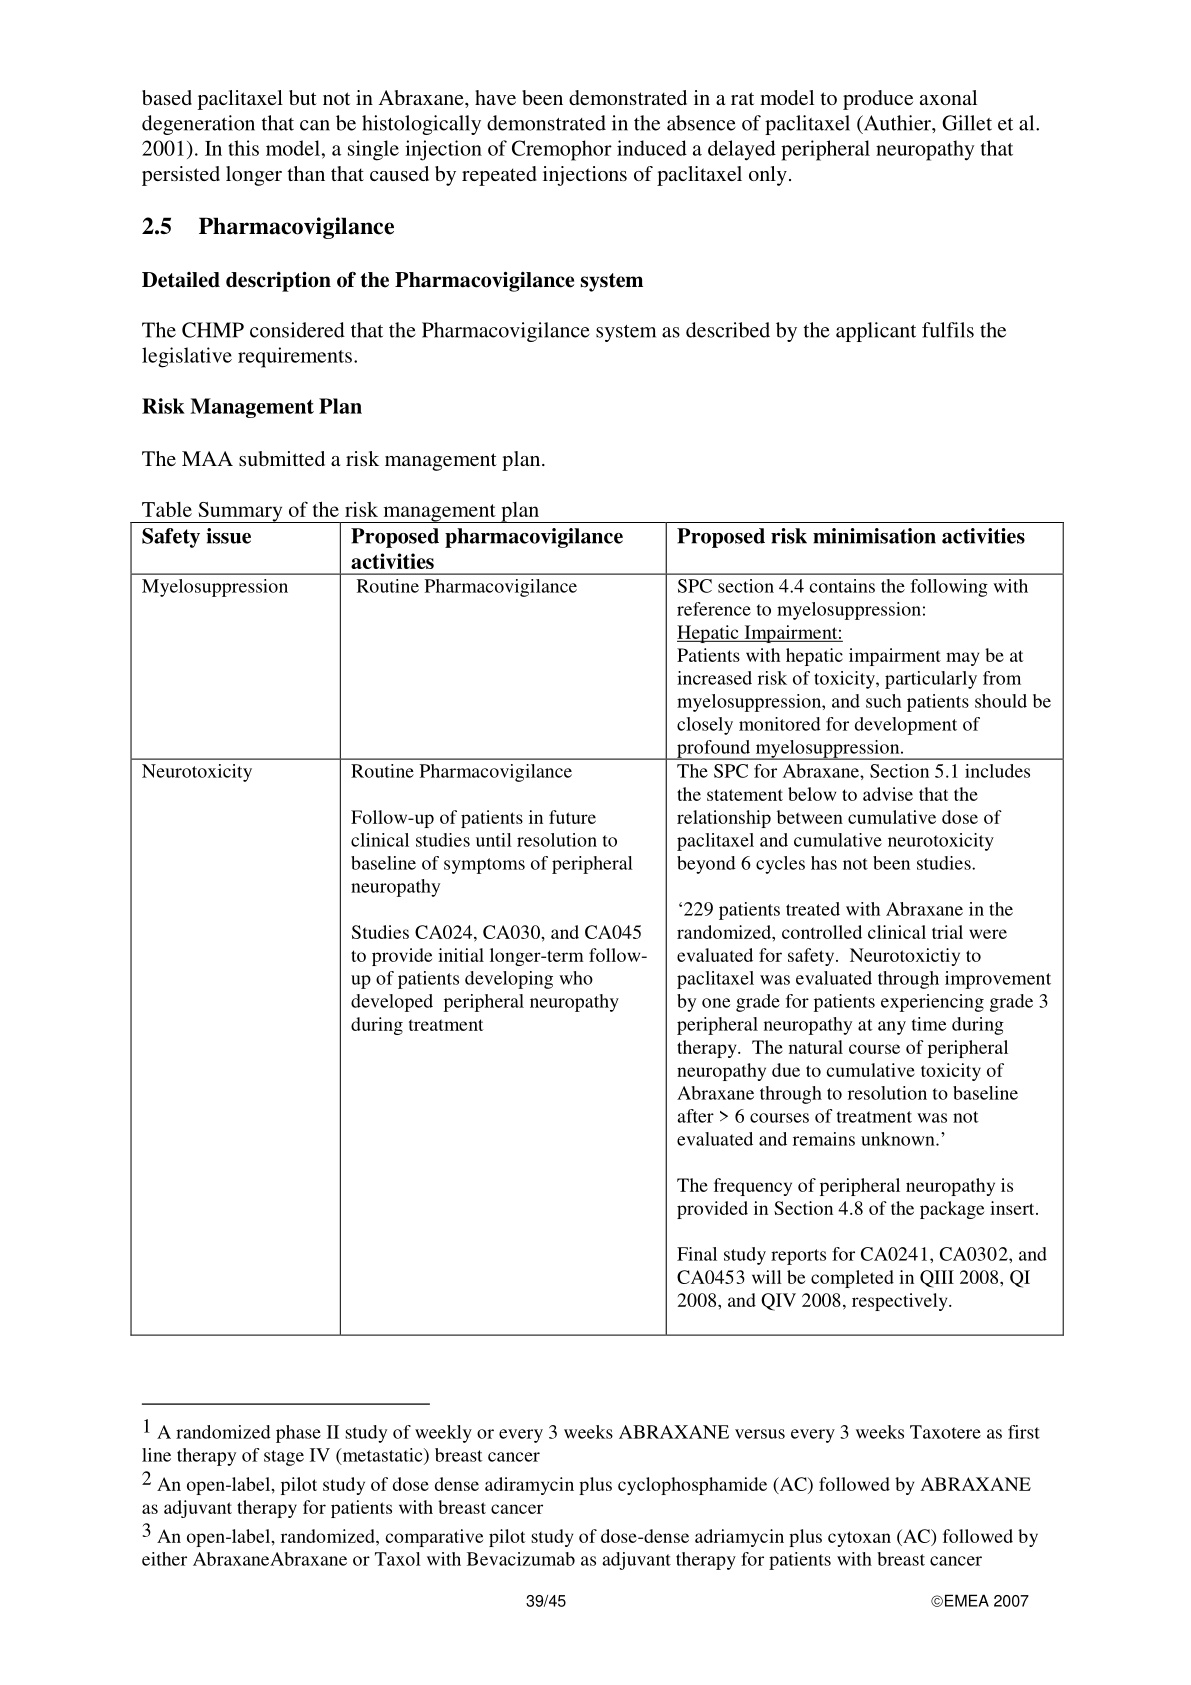full_lined: (129, 520, 1065, 1336)
